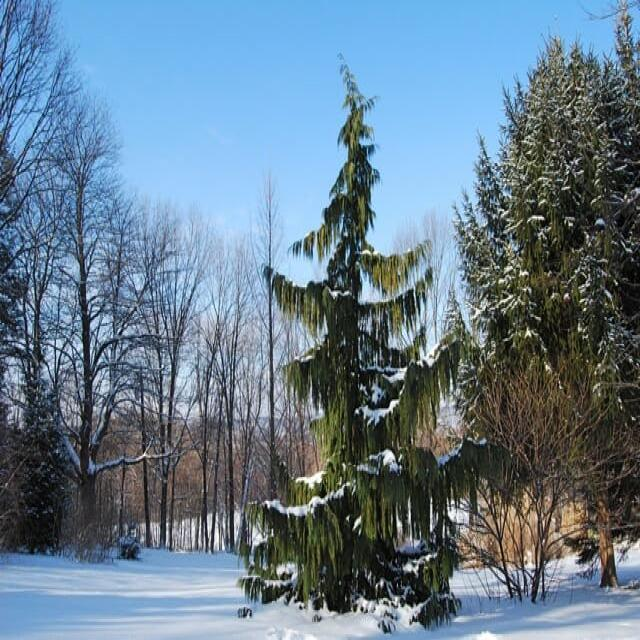Cupressus nootkatensis: (263, 63, 471, 625)
